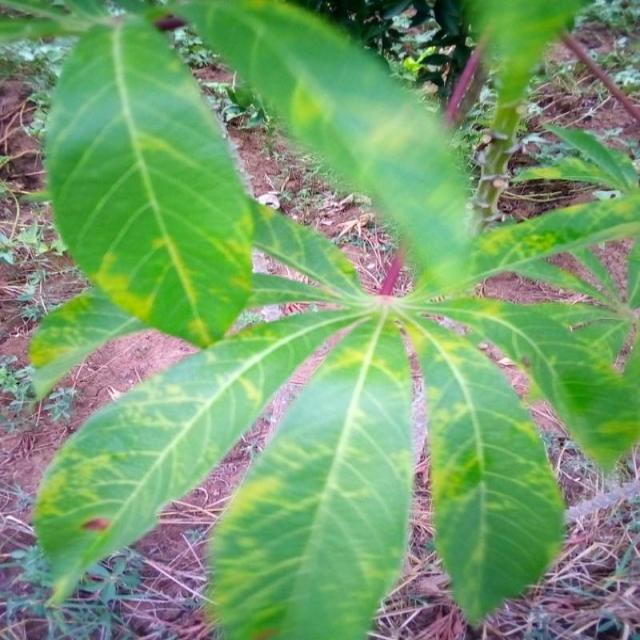cassava leaf: (27, 1, 638, 637), (30, 303, 364, 608), (42, 13, 256, 352), (202, 306, 414, 638), (403, 307, 567, 628)
